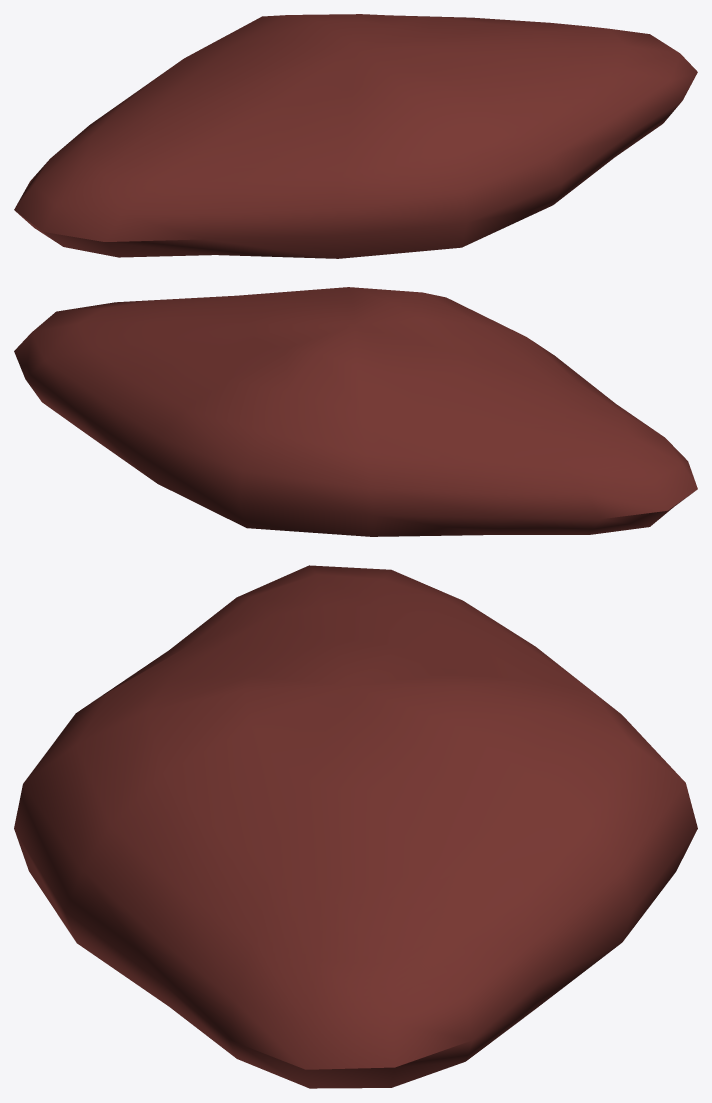
The model's file is gale_ram_liver.glb.
The picture shows the model from 3 angles, top to bottom: view 1: azimuth 30°, elevation 25°; view 2: azimuth 150°, elevation 25°; view 3: azimuth 270°, elevation 25°; orthographic projection. The views are drawn at different scales.
Parts seen in each view (by area): view 1: gale_ram_liver; view 2: gale_ram_liver; view 3: gale_ram_liver.
Part boxes in pixels (x1,y1,x2,y2): gale_ram_liver: [14, 14, 697, 258]; gale_ram_liver: [14, 287, 697, 536]; gale_ram_liver: [14, 565, 697, 1088].
Bounding box in the file's own units: 0.15 × 0.03 × 0.09.
